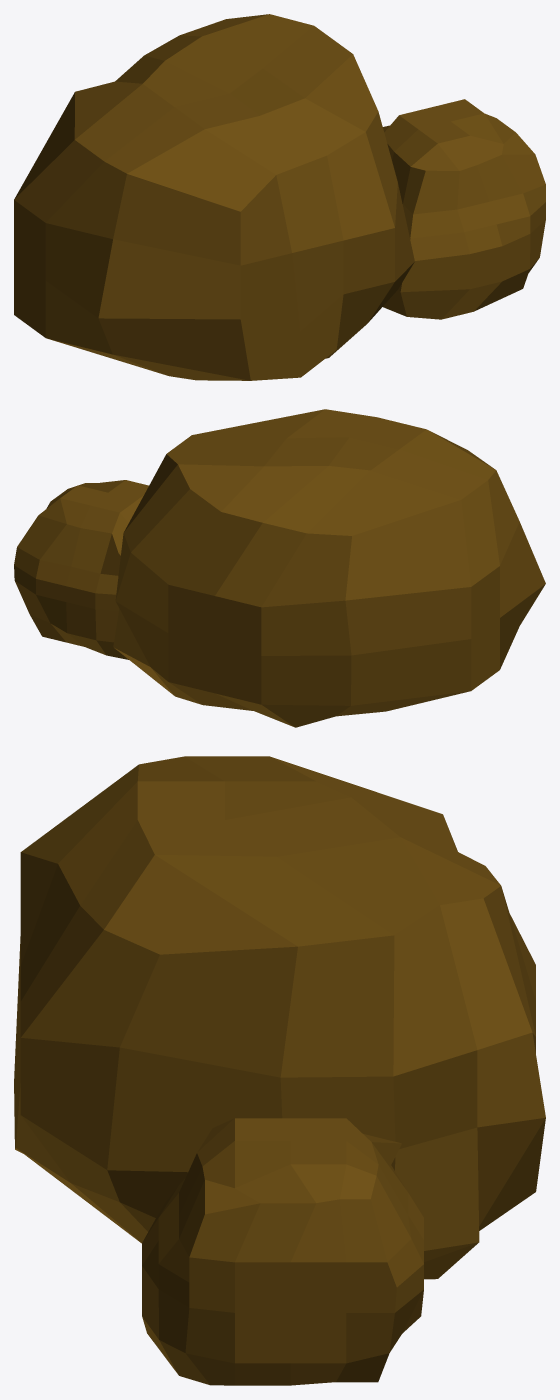
The model's file is kameny.fbx.
The picture shows the model from 3 angles, top to bottom: view 1: azimuth 30°, elevation 25°; view 2: azimuth 150°, elevation 25°; view 3: azimuth 270°, elevation 25°; orthographic projection. The views are drawn at different scales.
Visible parts, largest first — view 1: Cube; view 2: Cube; view 3: Cube.
Part boxes in pixels (bbox=[...]): Cube: bbox=[14, 14, 545, 380]; Cube: bbox=[14, 409, 545, 727]; Cube: bbox=[14, 756, 545, 1385].
Bounding box in the file's own units: 473 × 249 × 312.
